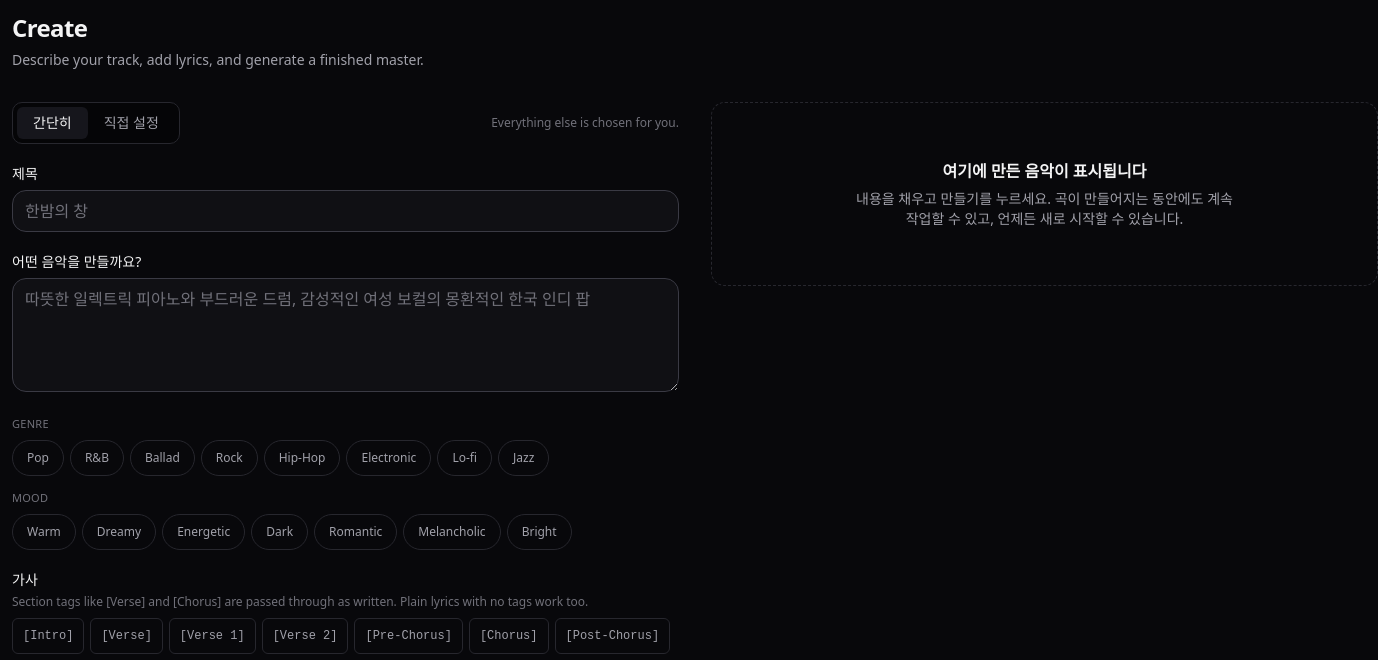
create modes › Custom mode reveals the advanced surface
Click the tab "직접 설정".
click(131, 123)  # box [88, 107, 175, 139]
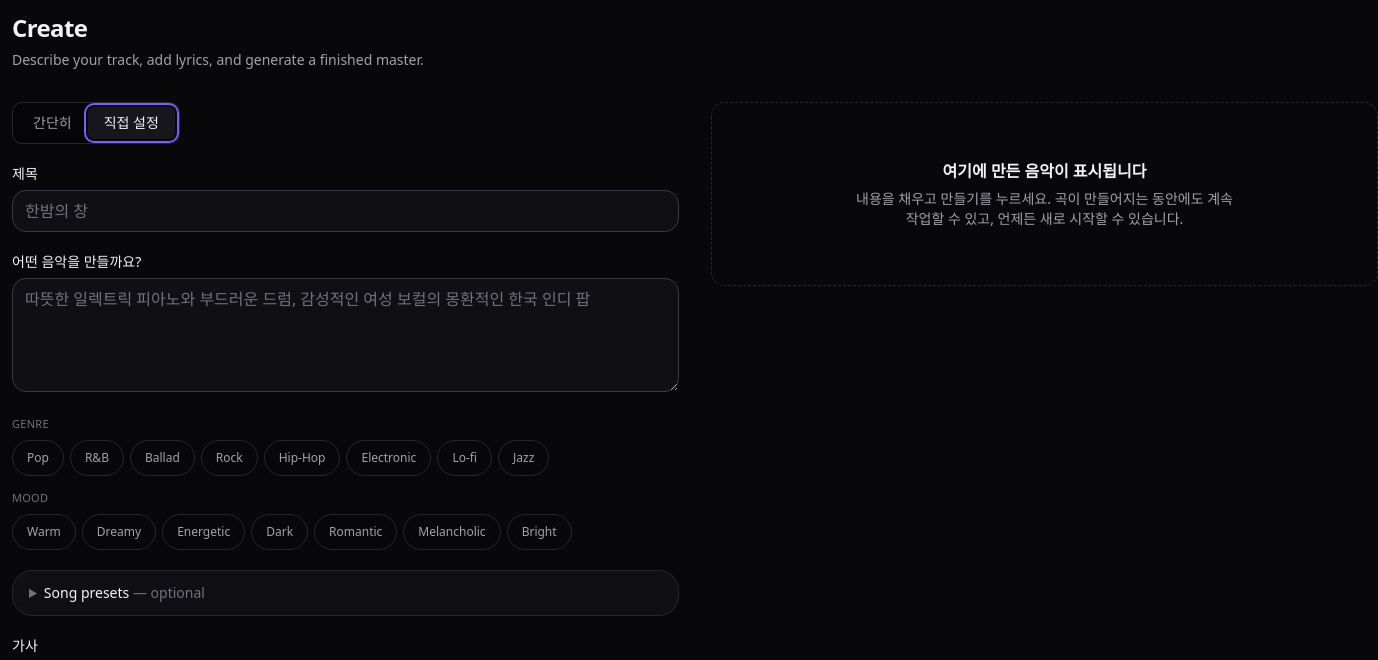
Expected: the heading "Song presets — optional" is shown, [44, 583, 205, 602]
